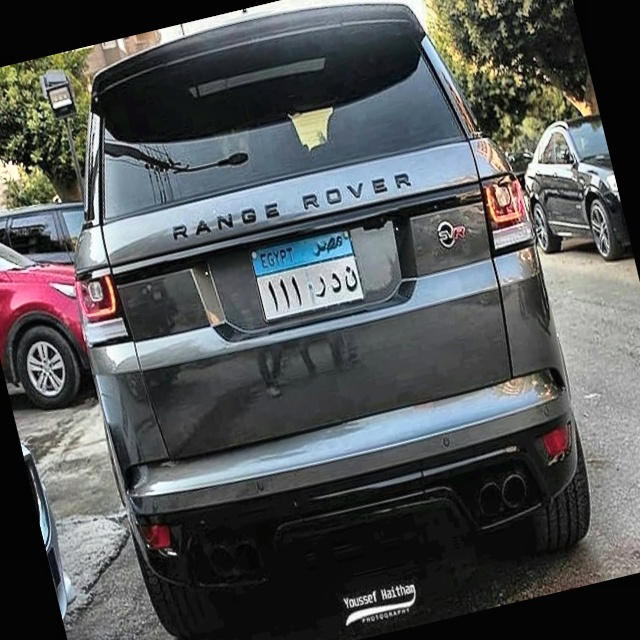License Plate: (243, 220, 372, 328)
